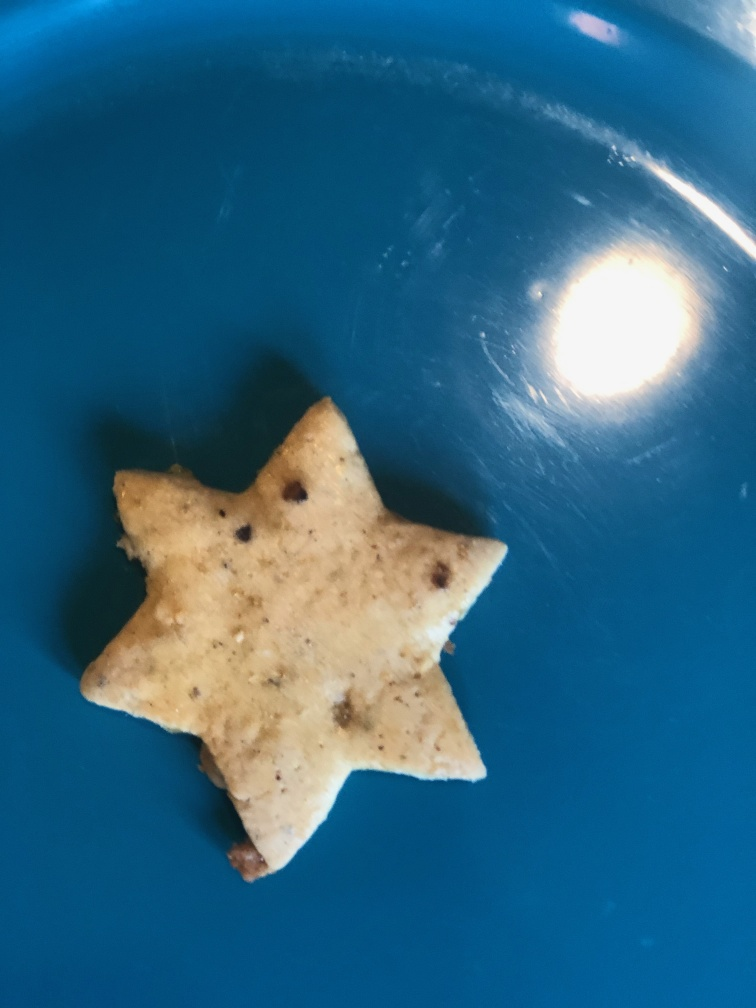star: (74, 396, 508, 867)
